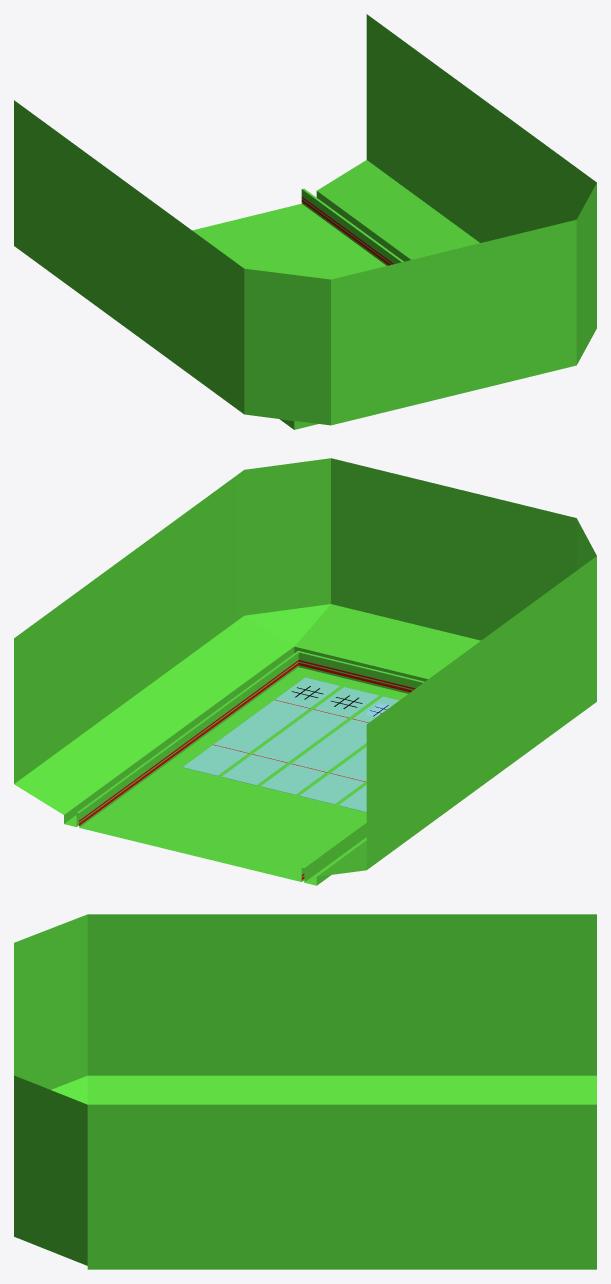
File: curling_map1.fbx
The picture shows the model from 3 angles, top to bottom: view 1: azimuth 30°, elevation 25°; view 2: azimuth 150°, elevation 25°; view 3: azimuth 270°, elevation 25°; orthographic projection. The views are drawn at different scales.
Visible parts, largest first — view 1: stadium; view 2: stadium, scenery_ice, Player_ice; view 3: stadium.
Part boxes in pixels (x1,y1,x2,y2): stadium: (14,14,596,429); stadium: (14,458,596,885); scenery_ice: (182,677,379,812); Player_ice: (260,696,398,794); stadium: (14,914,596,1269).
Size of what is drawn, in the model's own units: 54266 by 25591 by 70237.
